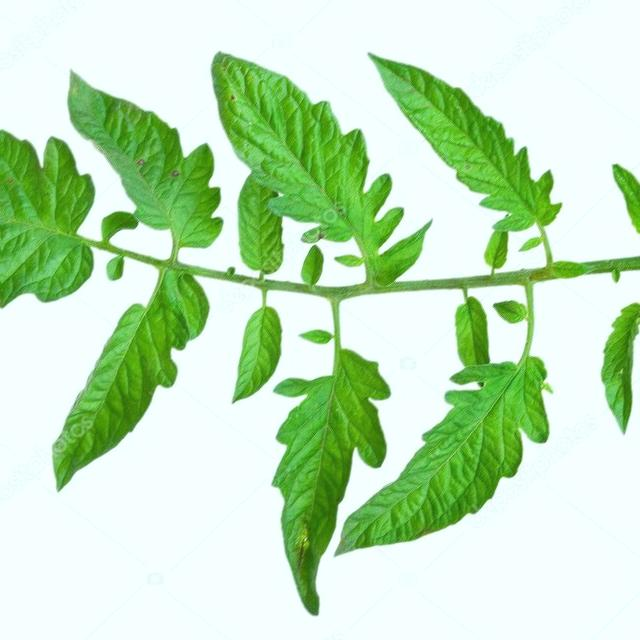Tomato leaf: (194, 43, 421, 282), (339, 338, 547, 559), (361, 46, 561, 258), (33, 278, 189, 491), (56, 80, 231, 265), (277, 339, 377, 628), (0, 120, 103, 321)
